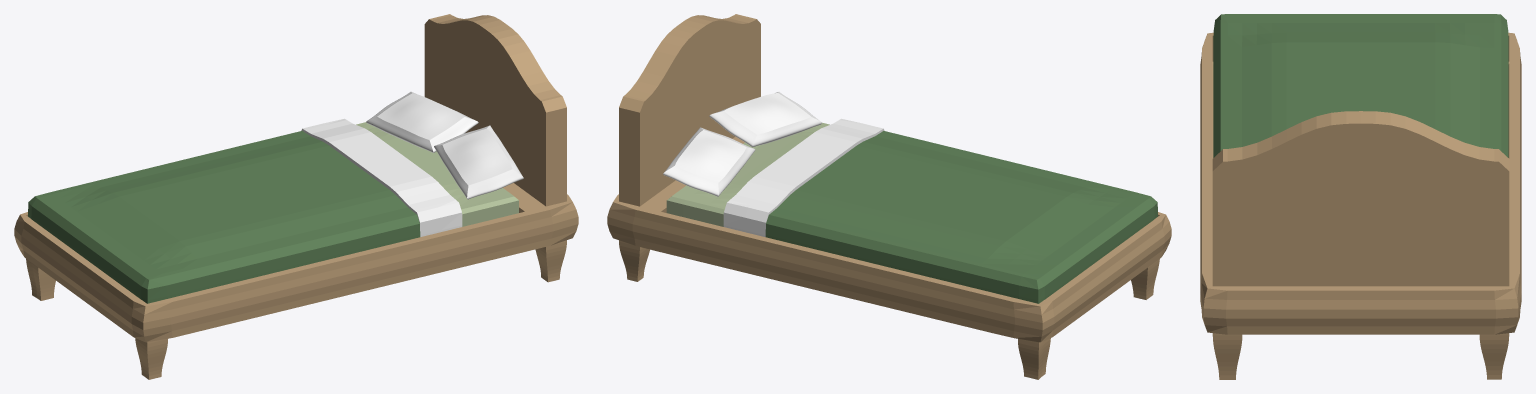
Rendered from Bed2.fbx.
3 views of the same model, side by side, from view 1: azimuth 30°, elevation 25°; view 2: azimuth 150°, elevation 25°; view 3: azimuth 270°, elevation 25° (orthographic). The views are drawn at different scales.
Parts seen in each view (by area): view 1: pCube1, pCube3, pCube2; view 2: pCube1, pCube2, pCube3; view 3: pCube1.
Boxes of the visible parts, x1,y1,x2,y2 form: pCube1: (14, 14, 578, 379); pCube3: (434, 125, 523, 199); pCube2: (366, 91, 478, 152); pCube1: (607, 14, 1171, 379); pCube2: (663, 127, 755, 196); pCube3: (709, 92, 821, 147); pCube1: (1200, 14, 1521, 379).
Bounding box in the file's own units: 10.48 × 4.82 × 5.42.
